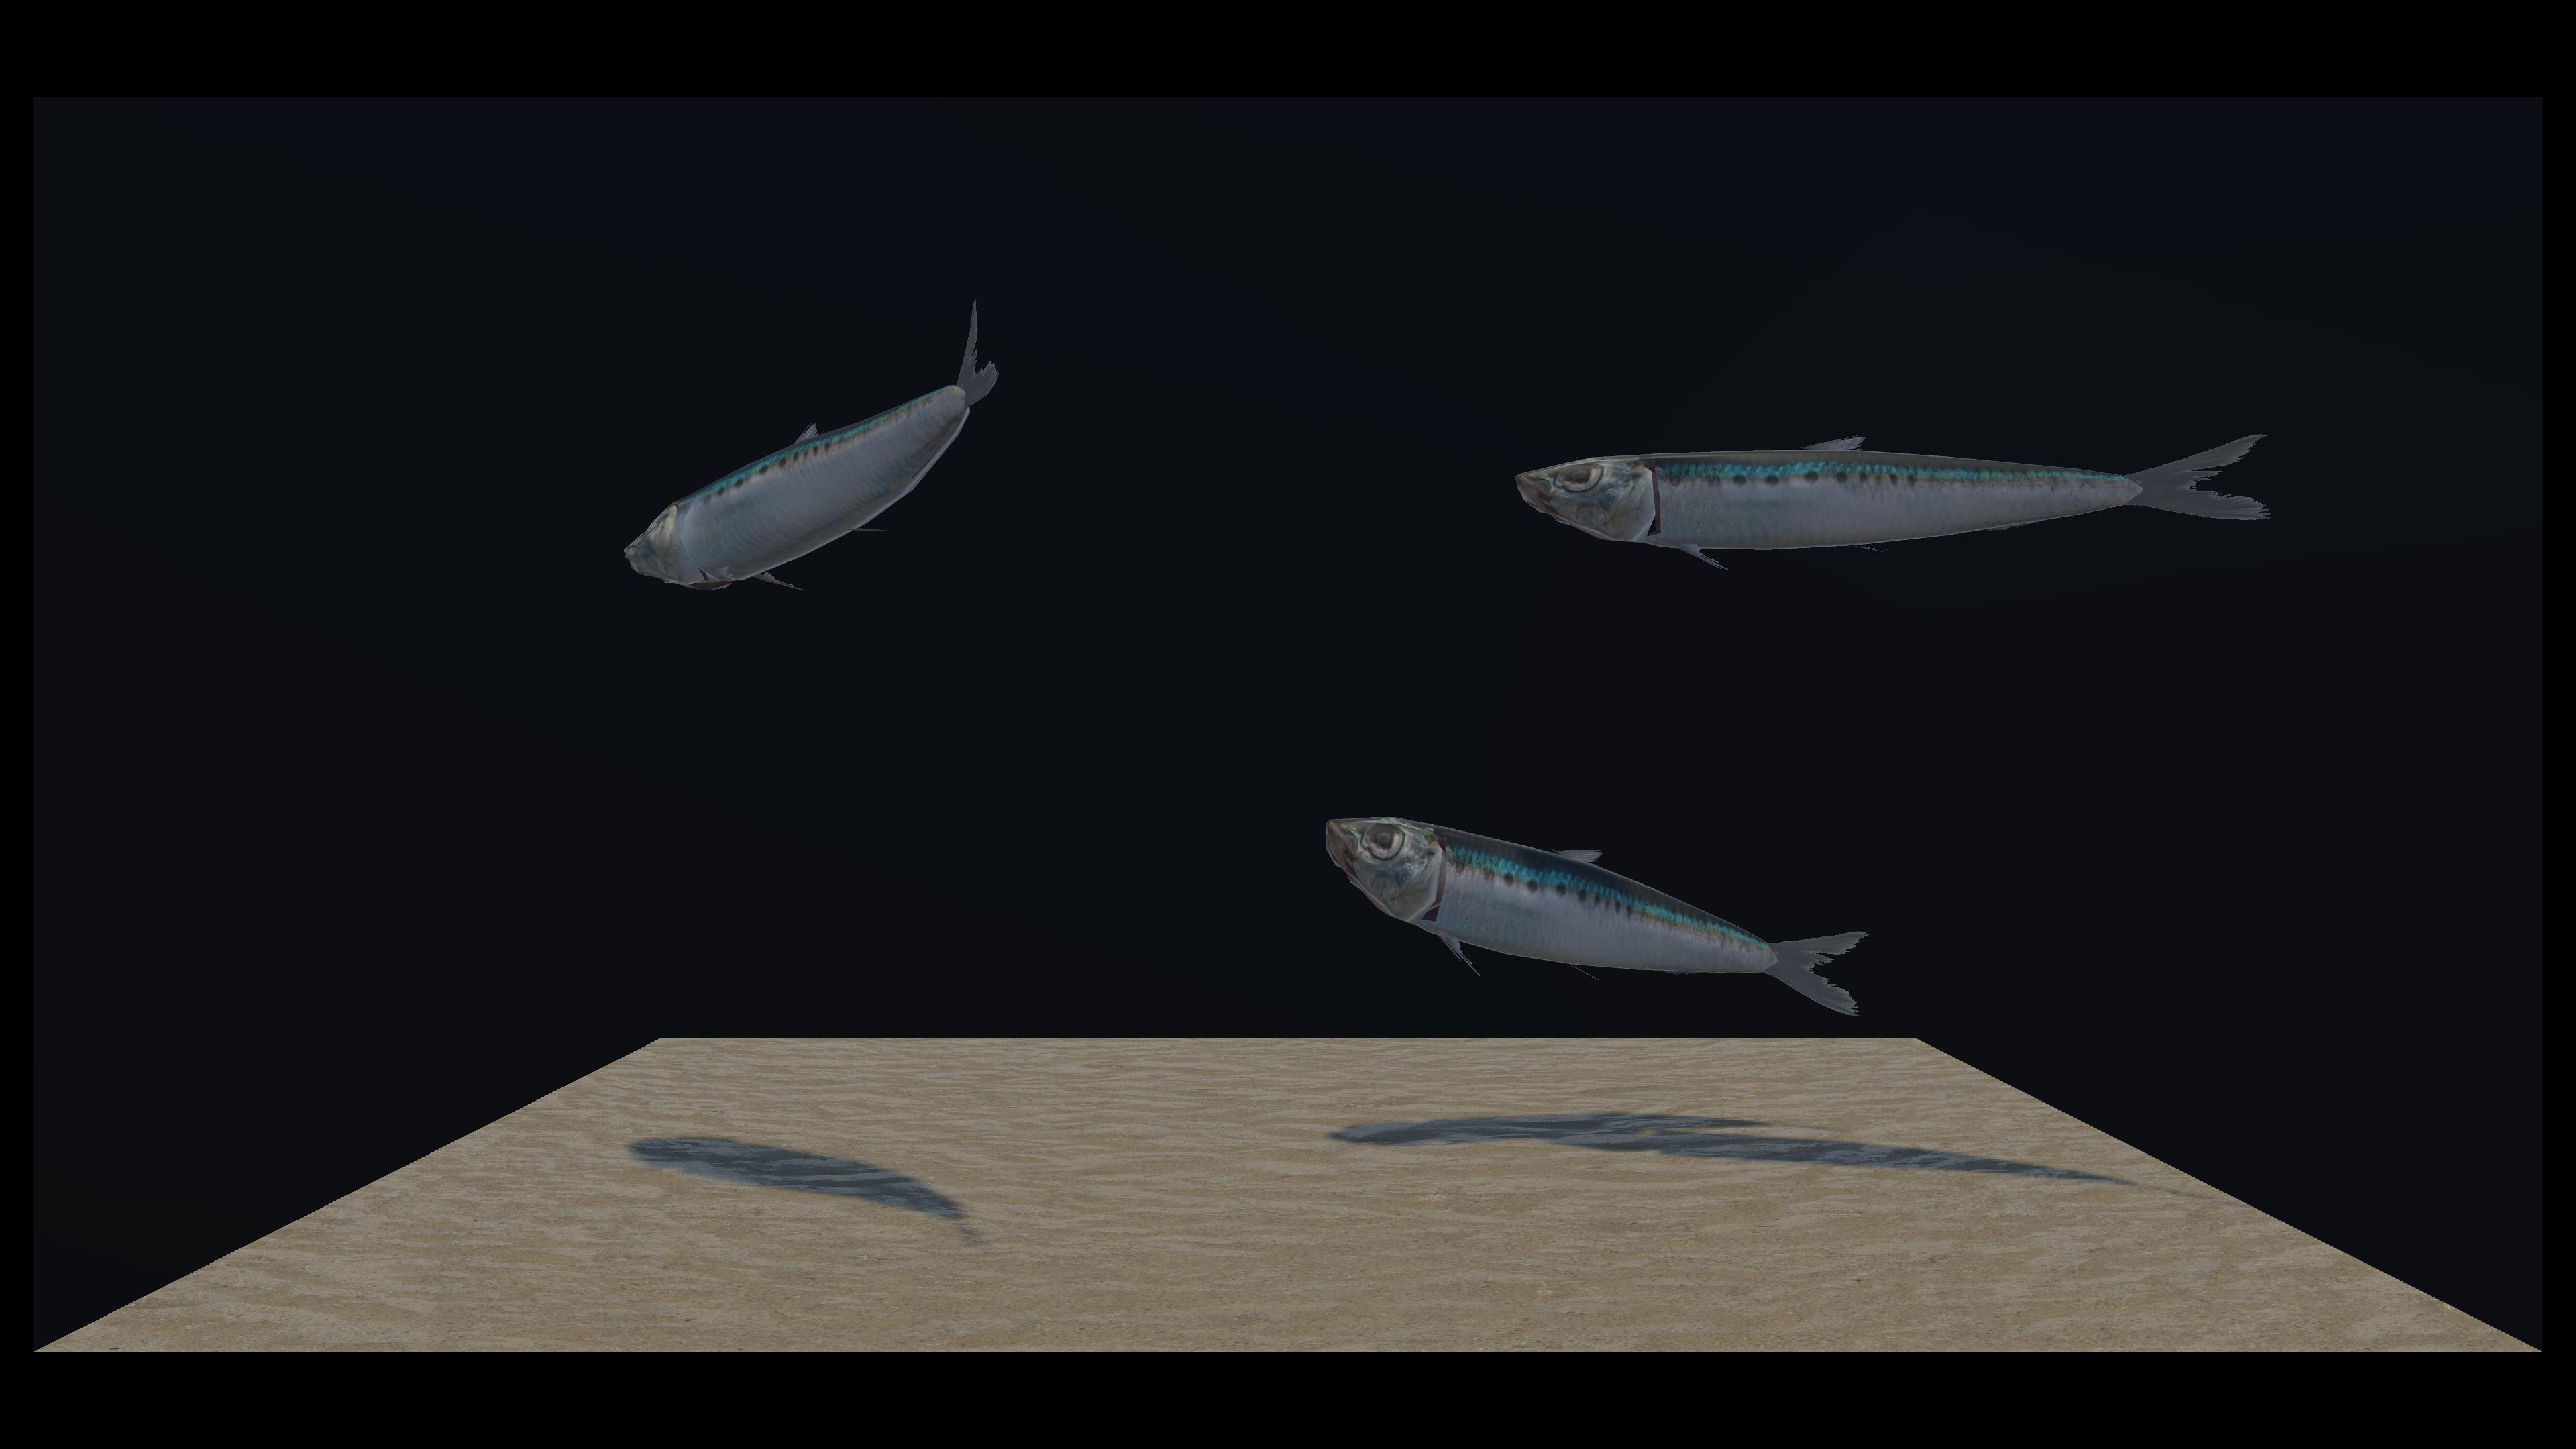Sardine_Front: (715, 412, 1858, 1012), (948, 331, 2250, 580), (637, 299, 1007, 598)
